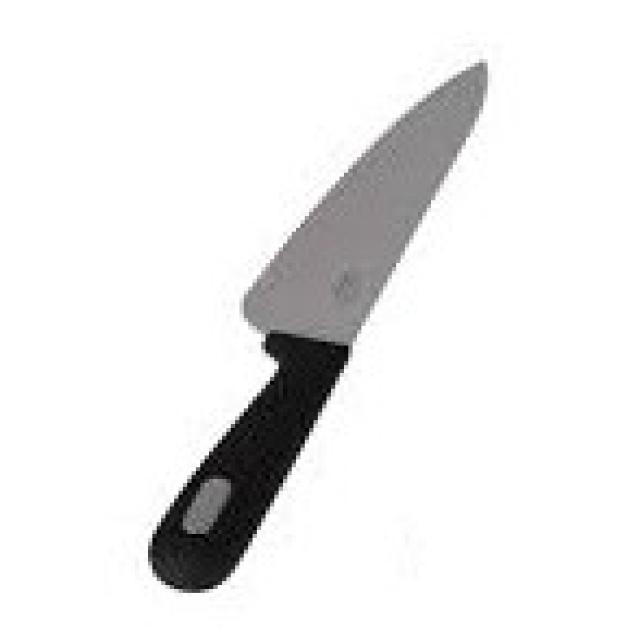knife: (147, 47, 493, 604)
